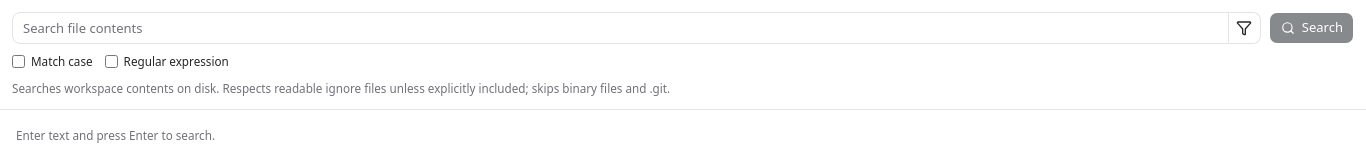
it: handles an invalid search response (502, <html>Bad gateway</html>)
The width and height of the screenshot is (1366, 160).
Step 1. Type "needle" into the search field → (620, 28), box [12,12,1229,44]
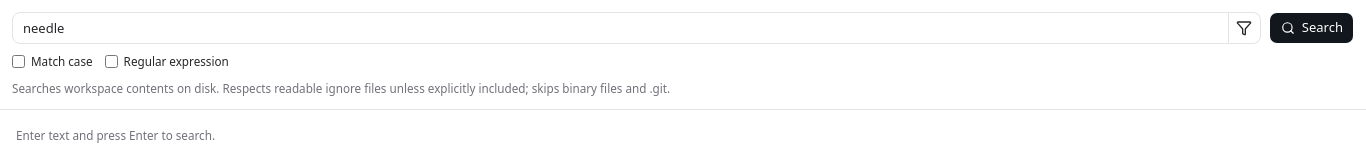
Step 2. Submit the form
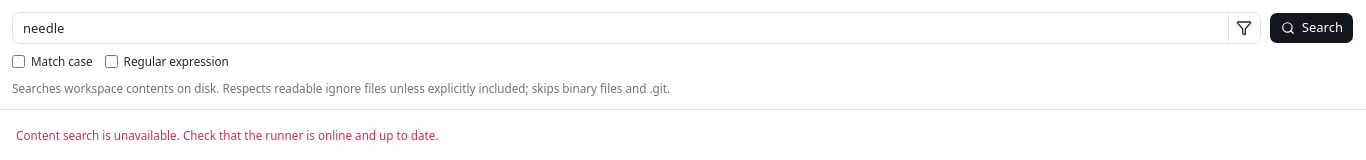
Check: the message shows "Content search is unavailable.", box [16,127,439,143]
